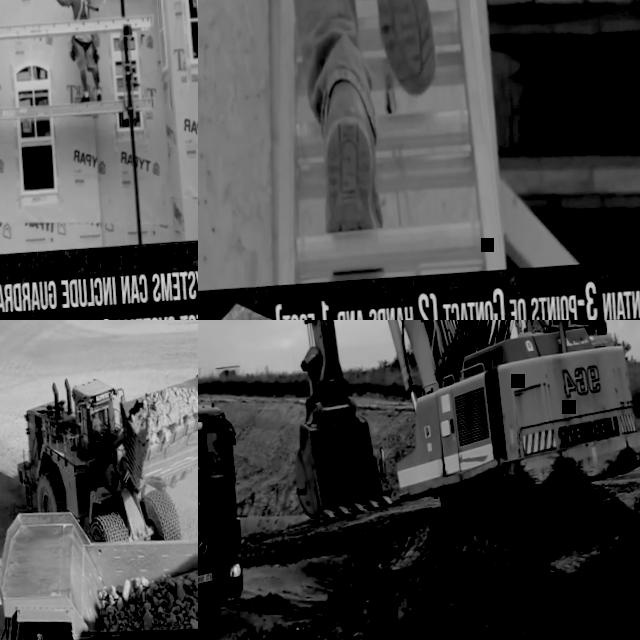NO-Safety Vest: (71, 0, 90, 20), (92, 418, 101, 434)
Person: (218, 0, 497, 280), (45, 0, 103, 104), (91, 412, 104, 434)
machinery: (273, 320, 640, 572), (9, 361, 198, 547), (0, 486, 198, 640), (198, 383, 250, 640), (445, 320, 614, 357)
